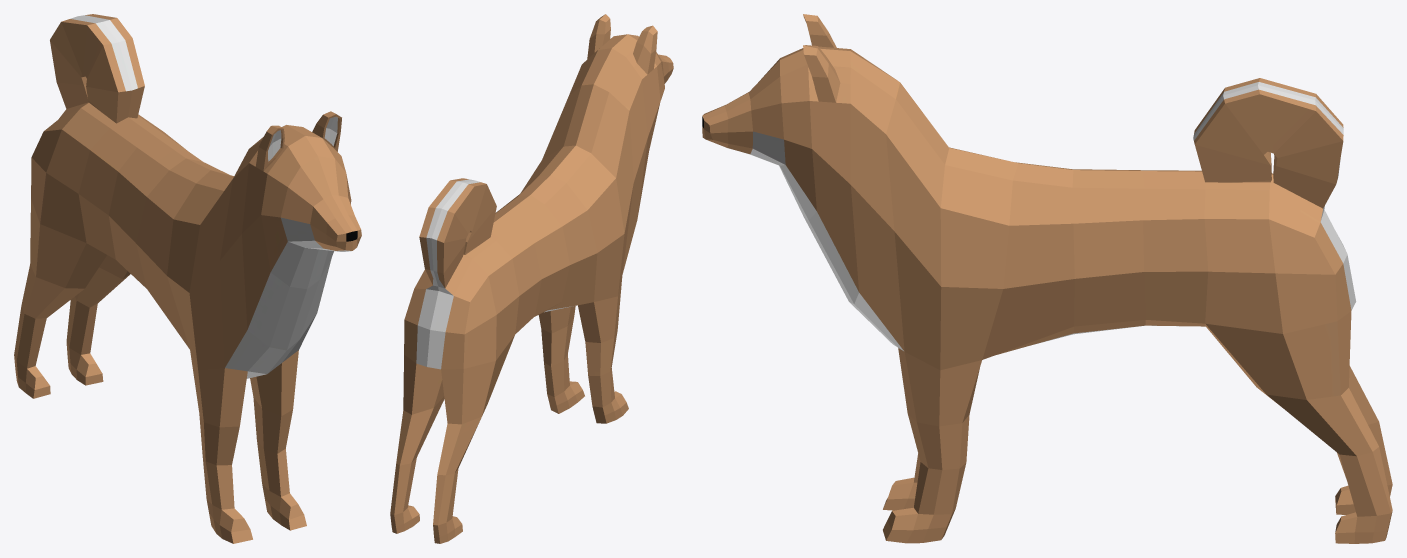
File: Shiba.glb
3 views of the same model, side by side, from view 1: azimuth 30°, elevation 25°; view 2: azimuth 150°, elevation 25°; view 3: azimuth 270°, elevation 25° (orthographic). The views are drawn at different scales.
Parts seen in each view (by area): view 1: 19dogFinal; view 2: 19dogFinal; view 3: 19dogFinal.
Boxes of the visible parts, x1,y1,x2,y2 form: 19dogFinal: (14, 14, 361, 543); 19dogFinal: (390, 14, 673, 543); 19dogFinal: (702, 14, 1392, 543).
Size of the model in its own units: 0.2577 by 0.9795 by 1.24.
Materials: 1 (1 with a texture image).
